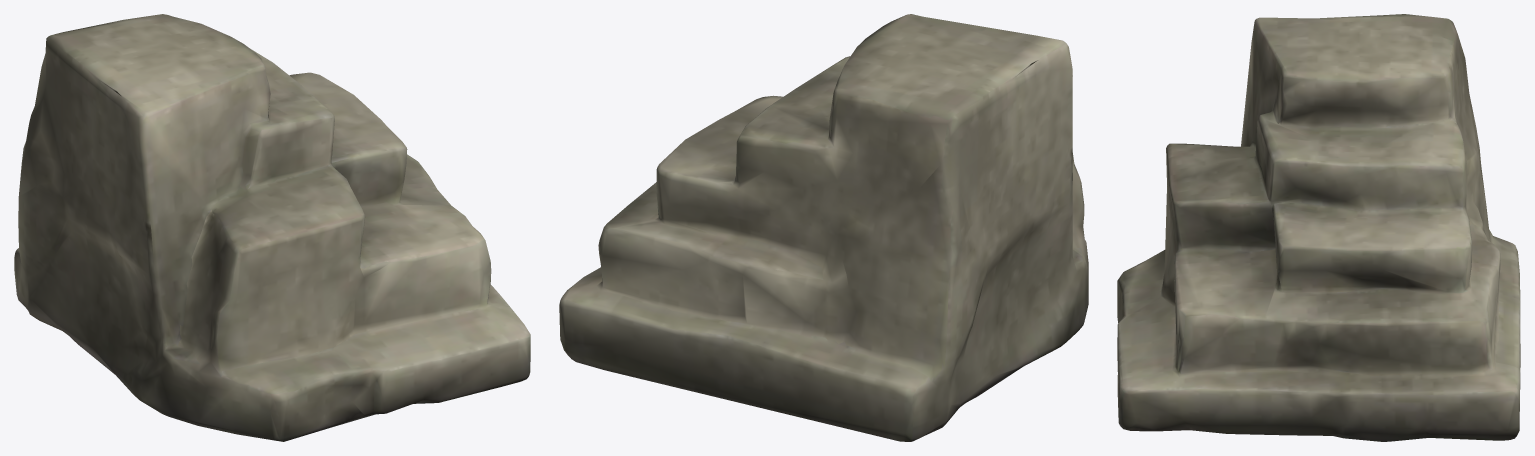
Rendered from stone-steps-v001.glb.
3 views of the same model, side by side, from view 1: azimuth 30°, elevation 25°; view 2: azimuth 150°, elevation 25°; view 3: azimuth 270°, elevation 25° (orthographic). The views are drawn at different scales.
Visible parts, largest first — view 1: stone-steps; view 2: stone-steps; view 3: stone-steps.
Boxes of the visible parts, x1=… form: stone-steps: x1=14, y1=14, x2=530, y2=441; stone-steps: x1=559, y1=14, x2=1088, y2=441; stone-steps: x1=1117, y1=14, x2=1520, y2=441.
Size of the model in its own units: 0.6375 by 0.4993 by 0.6592.
Materials: 1 (1 with a texture image).
